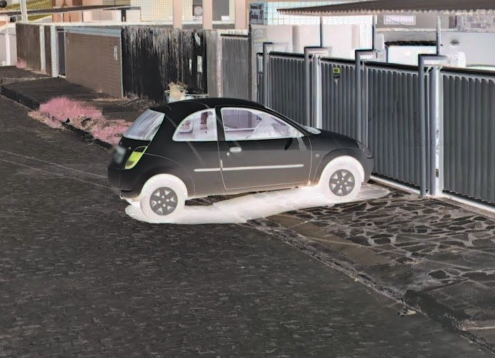car: (107, 95, 375, 221)
